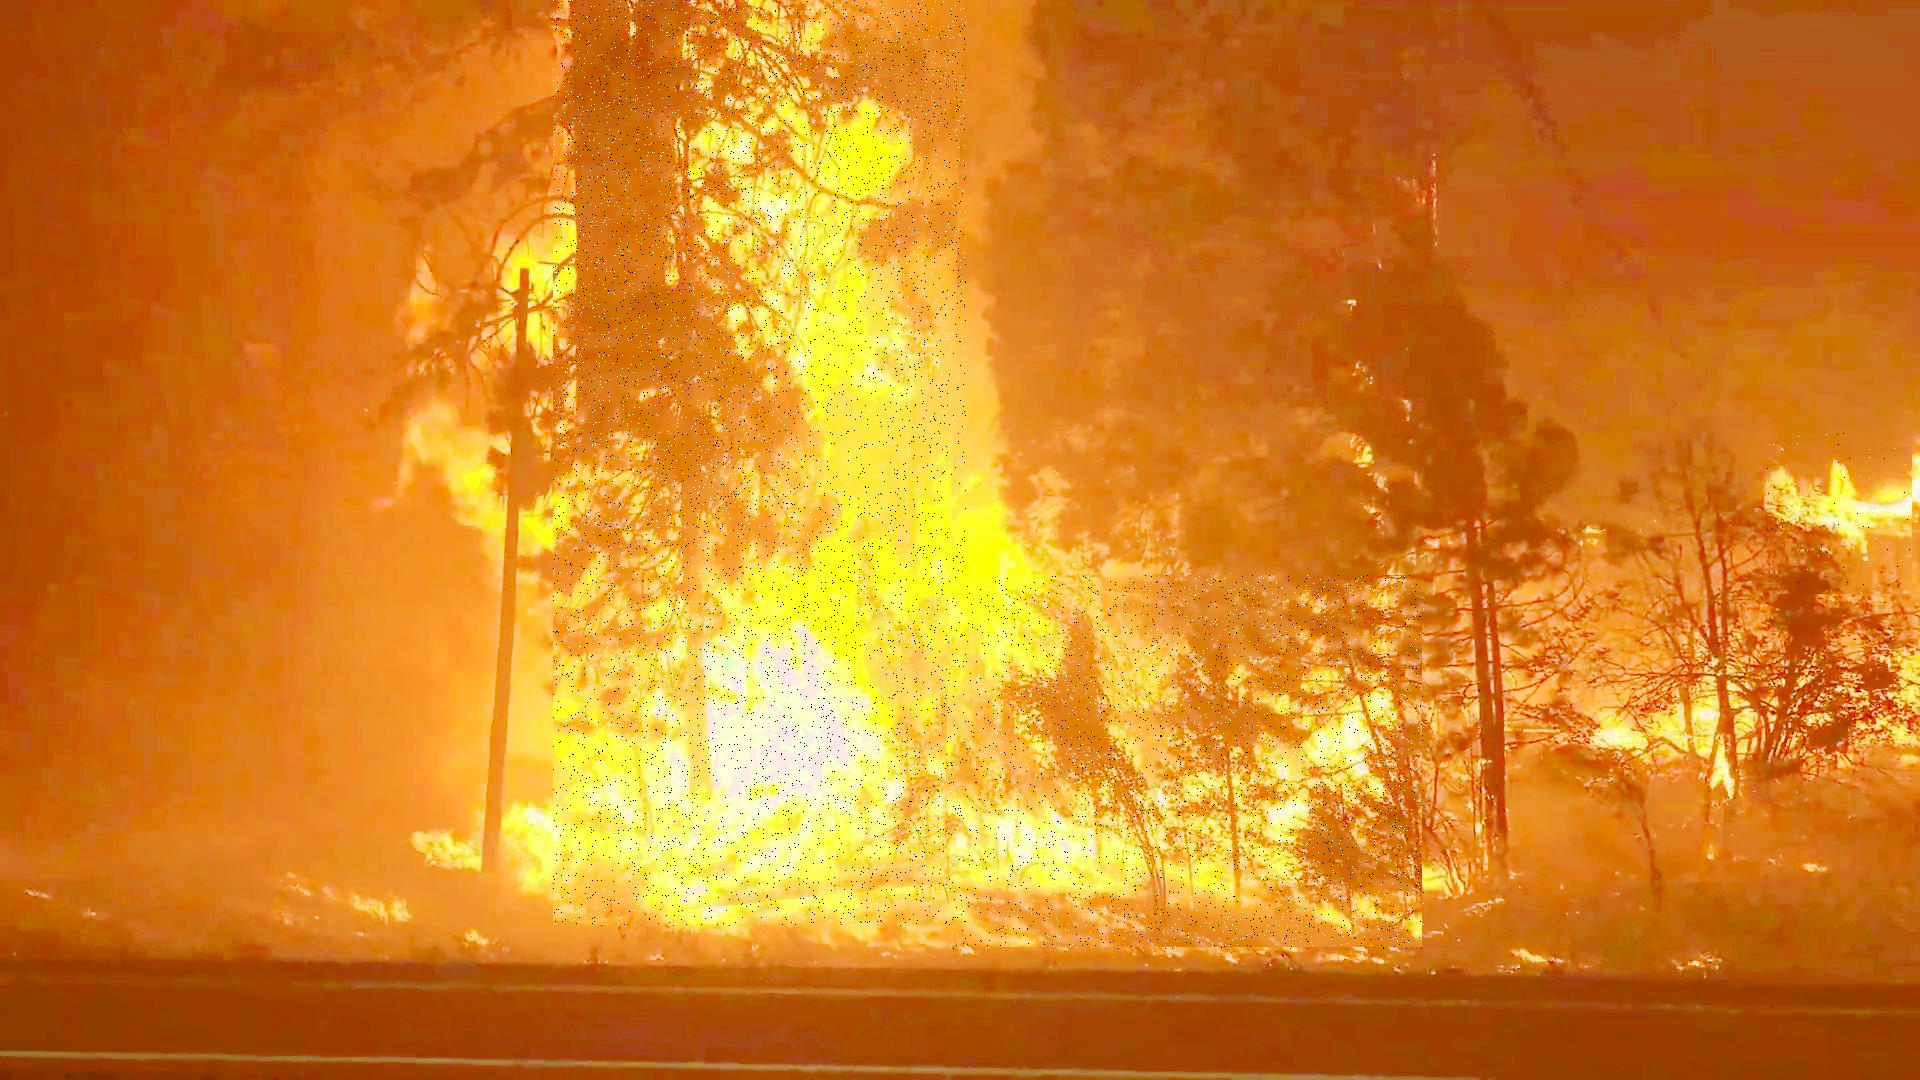fire: (554, 0, 967, 926), (953, 576, 1425, 949), (1766, 433, 1912, 595)
